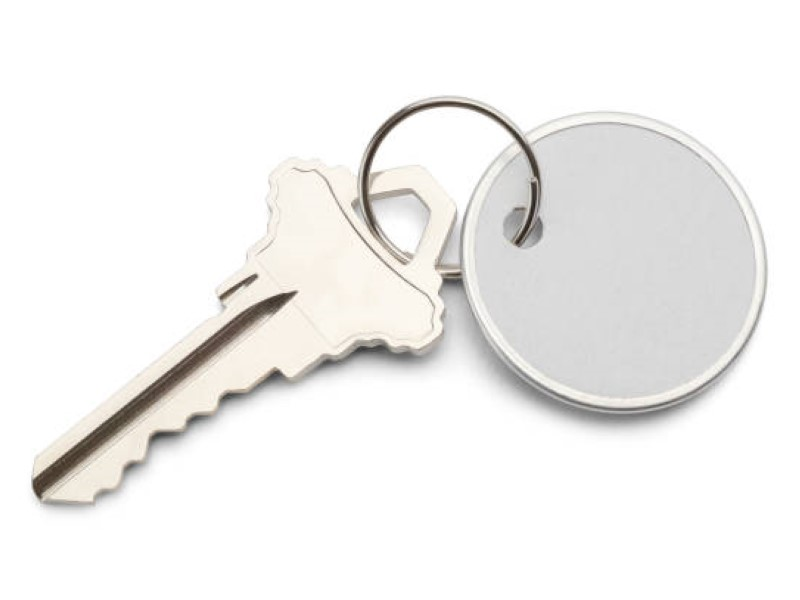key: (26, 150, 459, 508)
